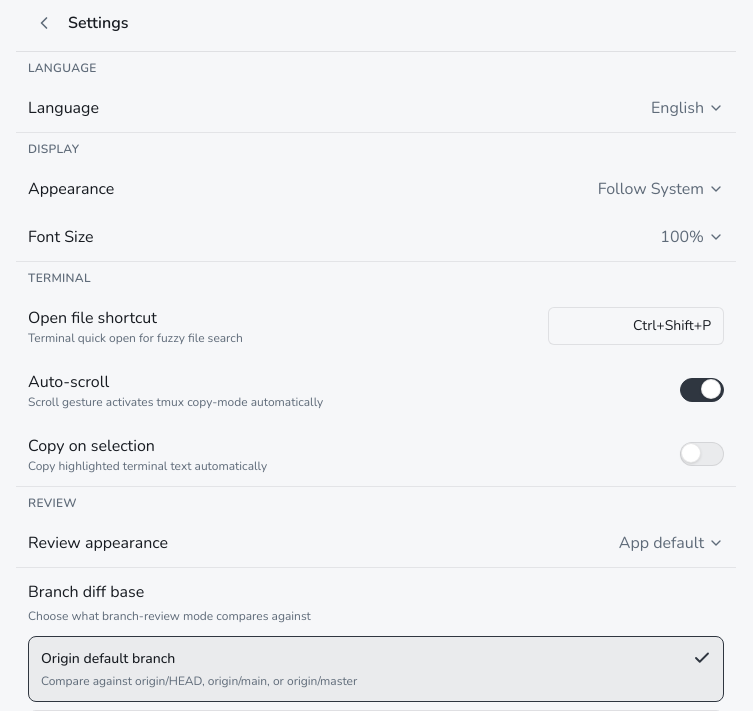
SettingsPage › renders Review appearance as a dropdown
Click the button "Review appearance App default": (98, 543) [16,519,736,567]
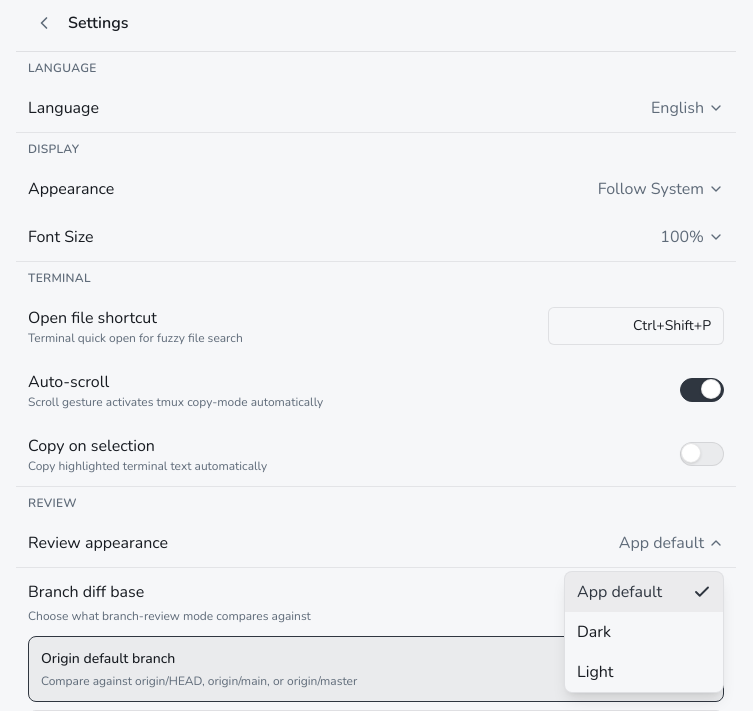
Now the list named "Review appearance" is shown, box [564,571,724,693]
Now the option "Dark" is shown, box [565,612,723,652]
